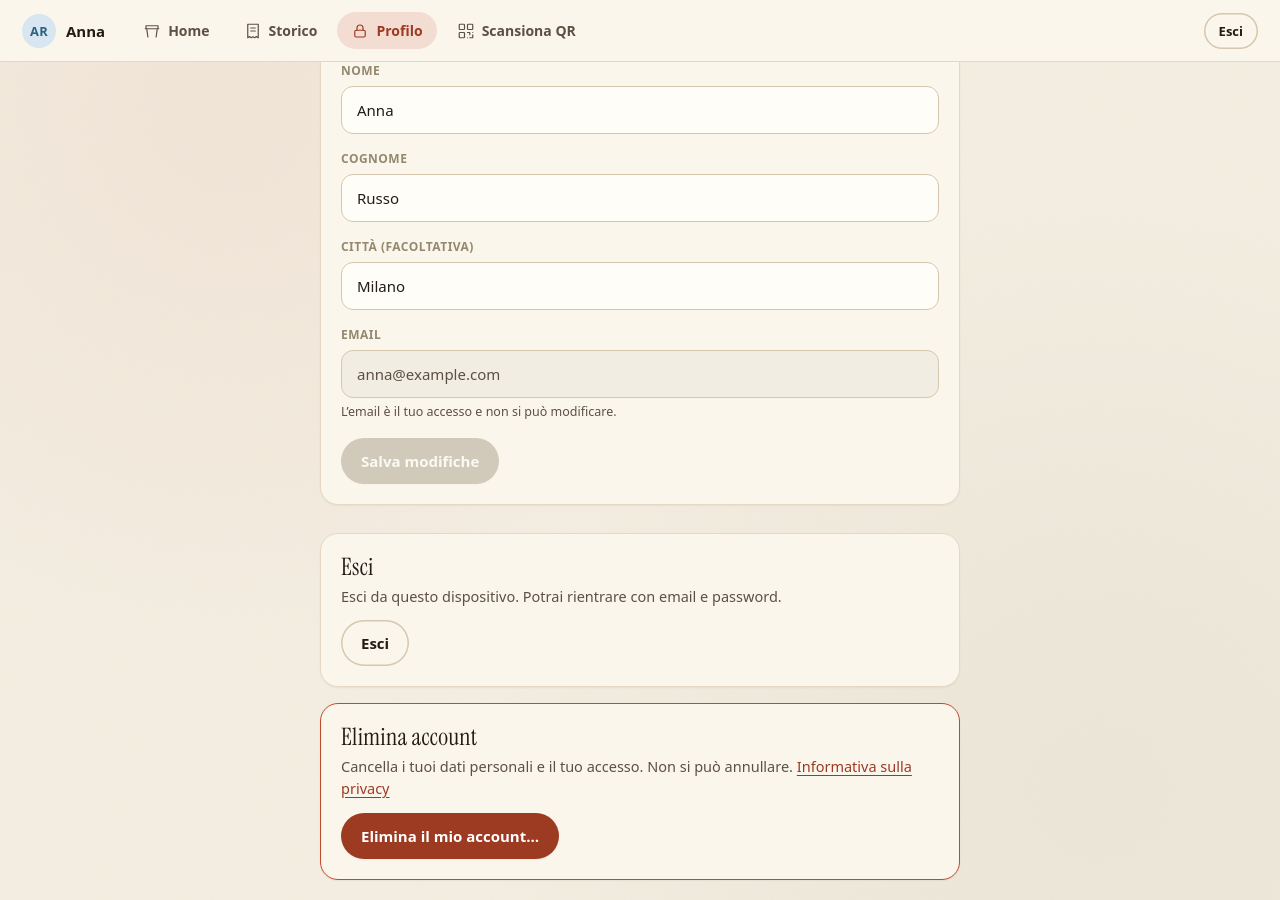
Test case: profilo: elimina account › Esc e Annulla chiudono senza eliminare, e il focus torna al pulsante
(page scrolled)
Click the button "Elimina il mio account…".
click(450, 836)  # box [341, 813, 559, 859]
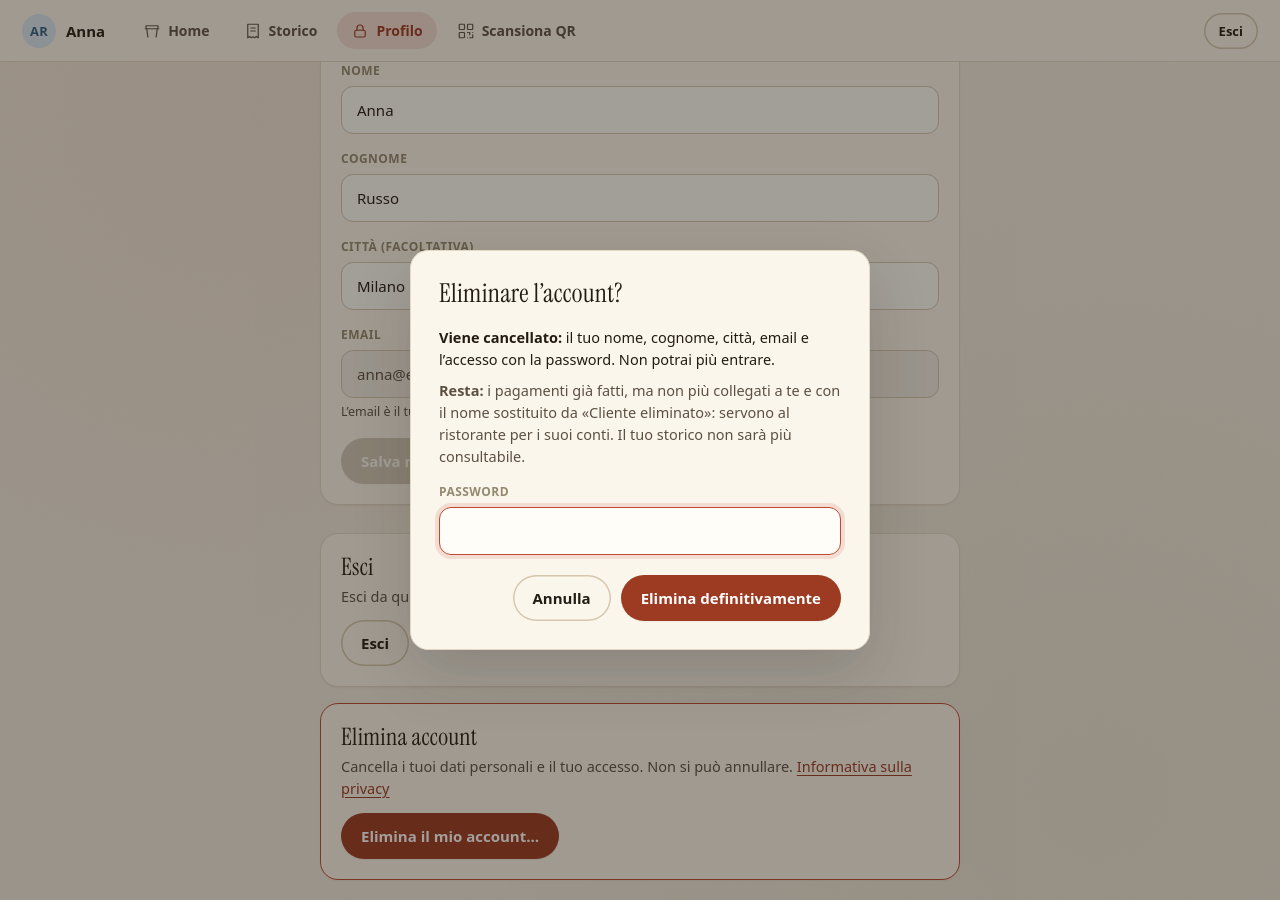
Press Escape
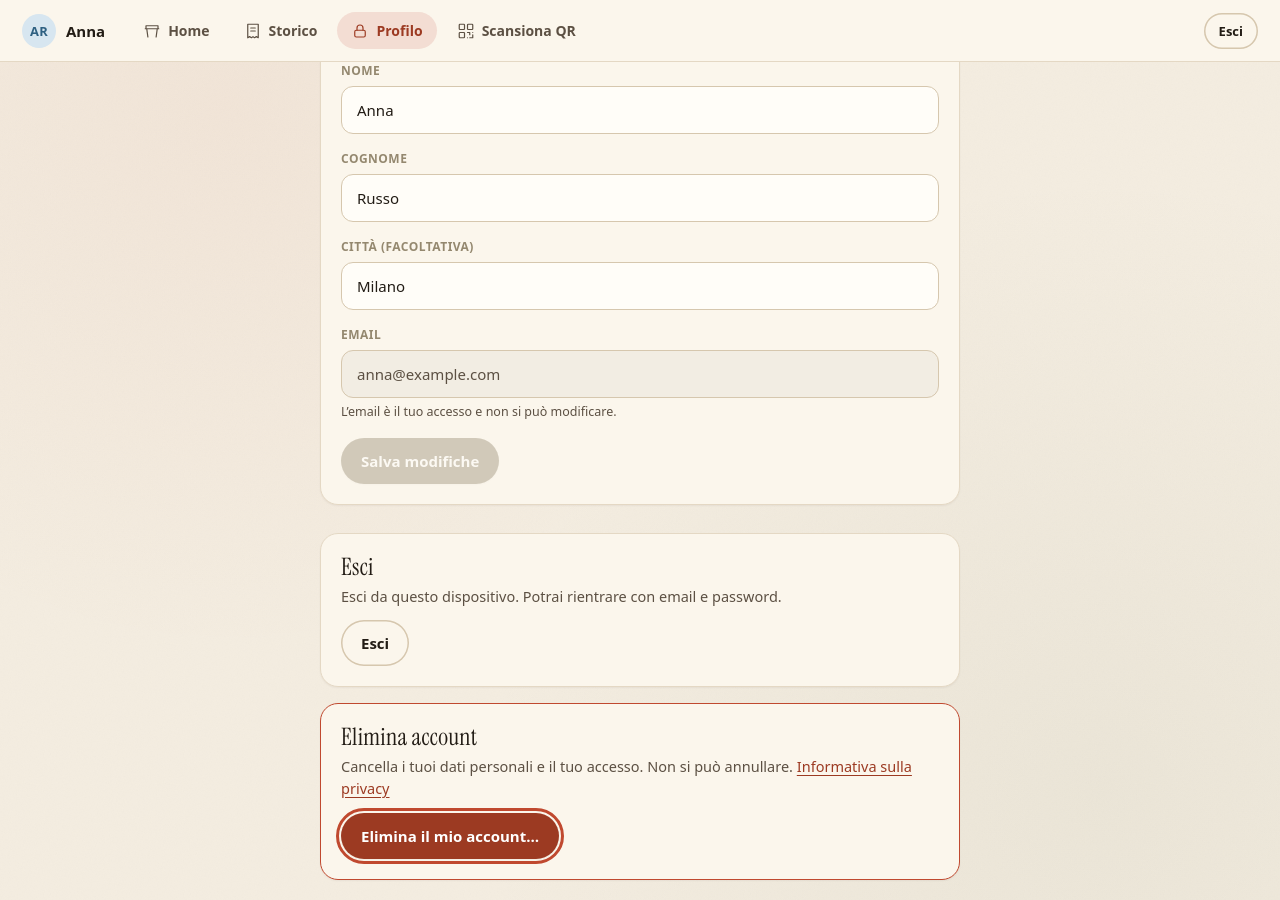
Expected: the dialog is gone
Click the button "Elimina il mio account…".
click(450, 836)  # box [341, 813, 559, 859]
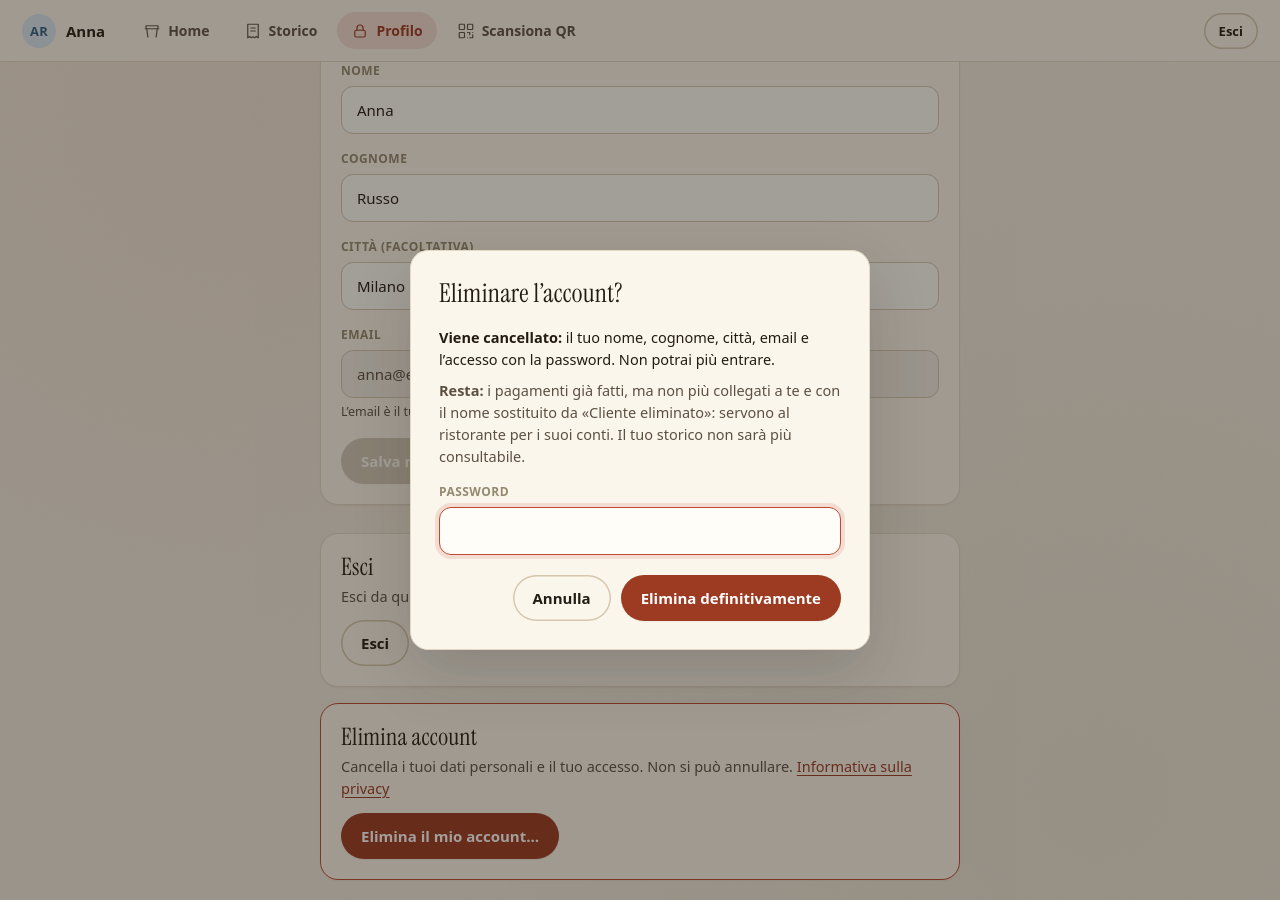
Click the button "Annulla".
click(562, 598)  # box [512, 575, 611, 621]
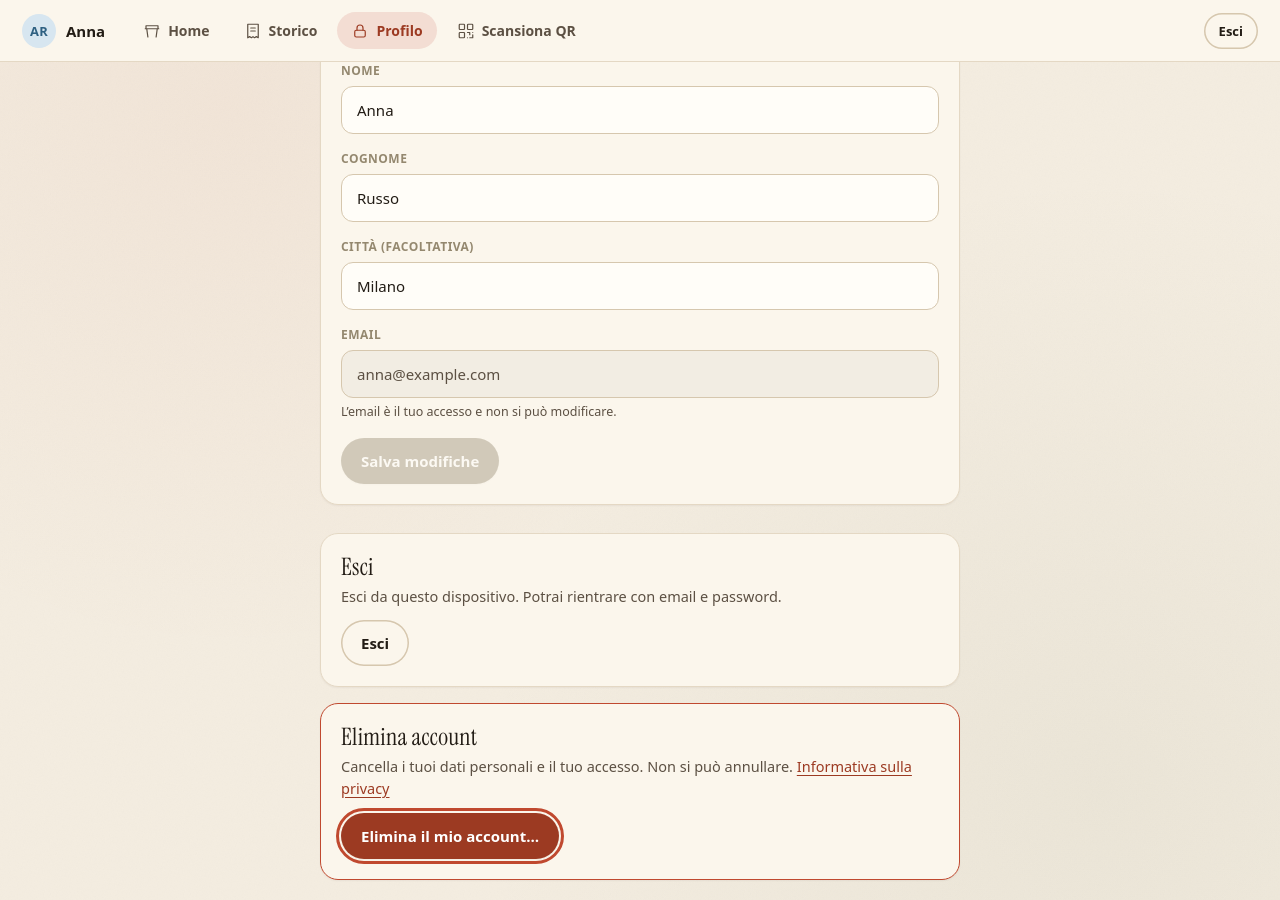
Expected: the dialog is gone
